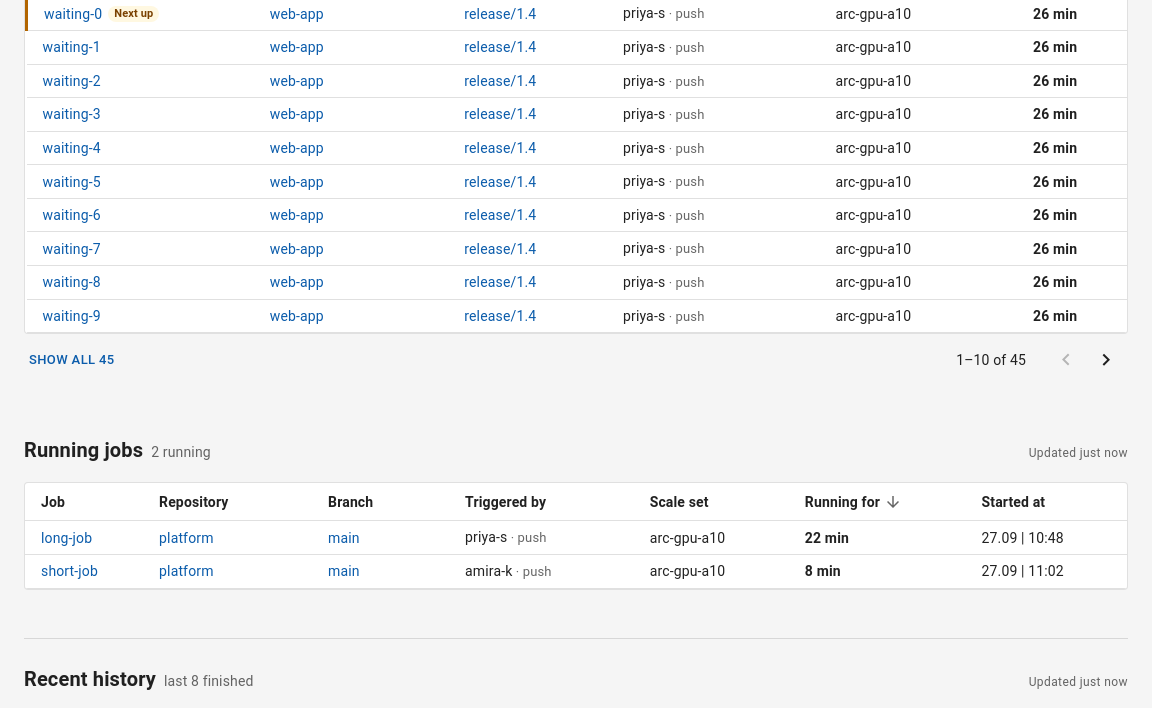
Test case: App dashboard › a refetch that changes the count leaves the reader on their page
(page scrolled)
Click the button named "next page" at (1106, 360), box 1086,340 -> 1126,380
Wait 15100 ms
(page scrolled)
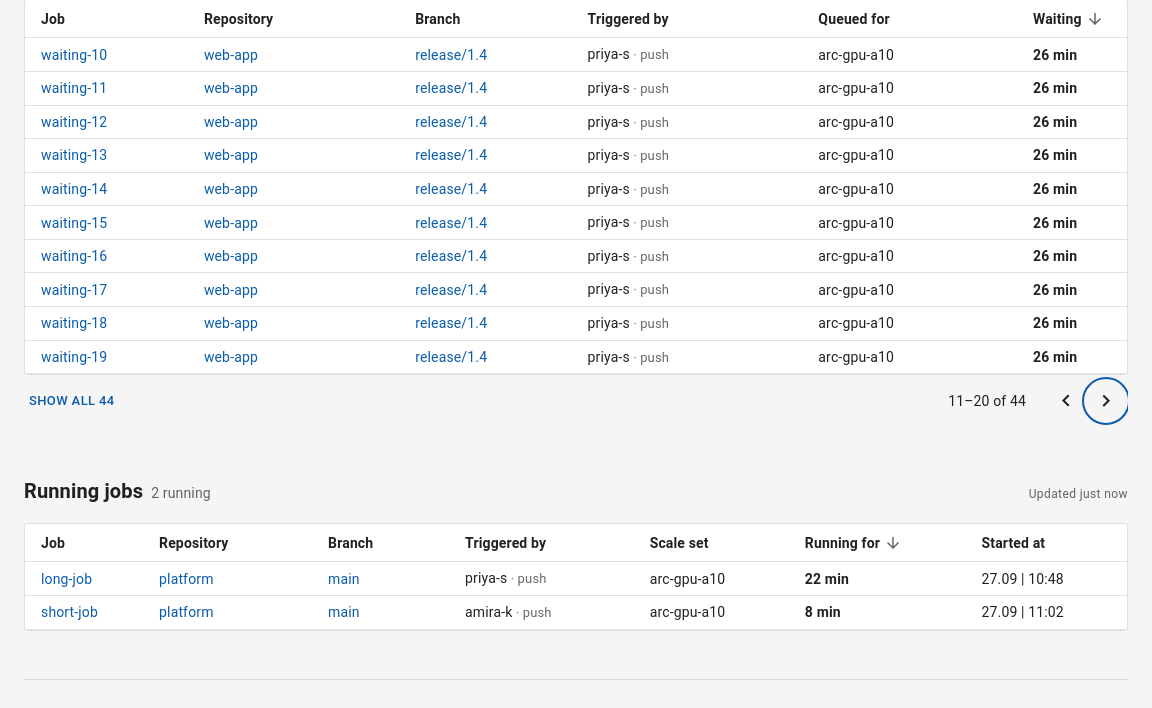
expect the text "11–20 of 44" is shown: met, box 948,391 -> 1026,411
